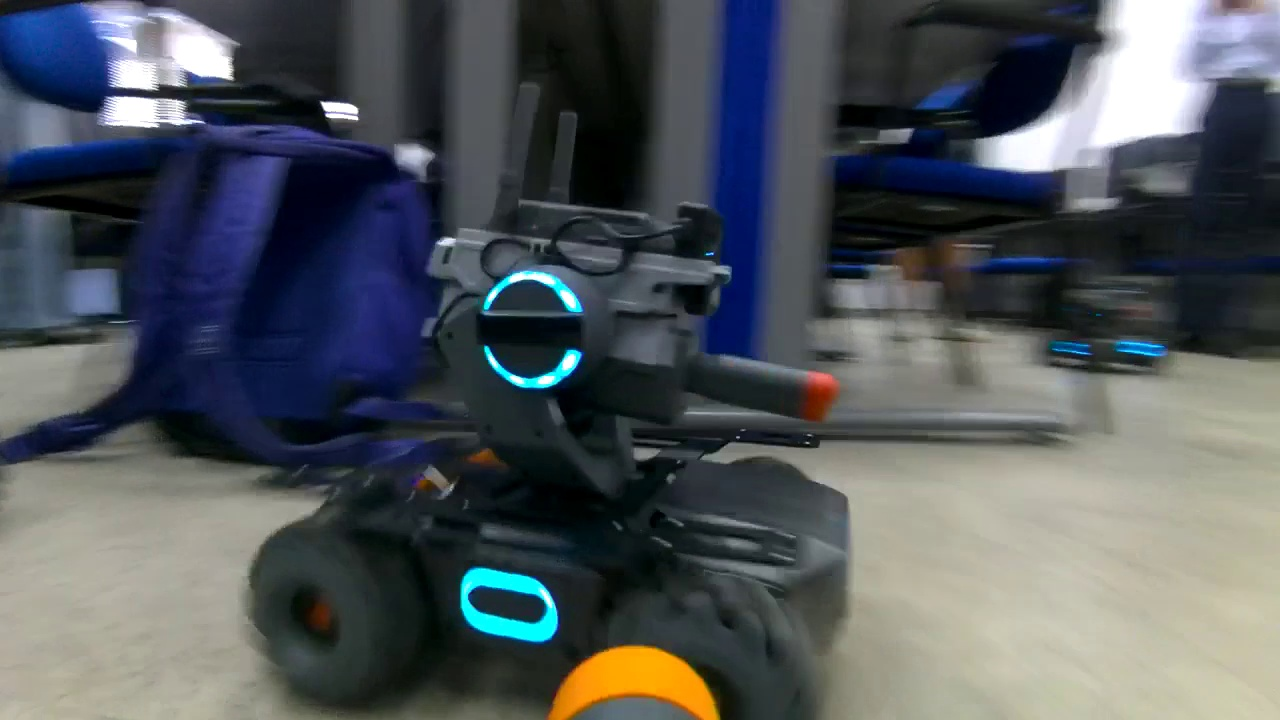robot: (211, 71, 909, 720)
